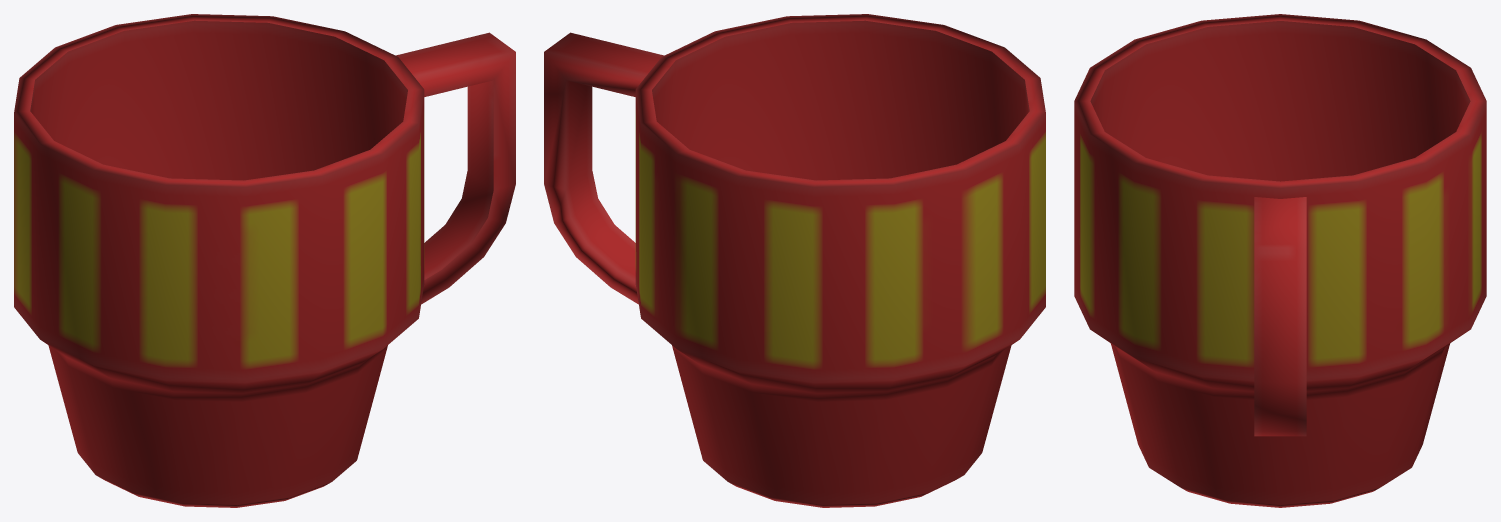
The model's file is pi_cup02_01.gltf.
3 views of the same model, side by side, from view 1: azimuth 30°, elevation 25°; view 2: azimuth 150°, elevation 25°; view 3: azimuth 270°, elevation 25° (orthographic).
Parts seen in each view (by area): view 1: pi_cup02_01_mesh_shape:pi_cup02_01_body01; view 2: pi_cup02_01_mesh_shape:pi_cup02_01_body01; view 3: pi_cup02_01_mesh_shape:pi_cup02_01_body01.
Part boxes in pixels (box(x1,y1,x2,y2)): pi_cup02_01_mesh_shape:pi_cup02_01_body01: box(14, 14, 515, 507); pi_cup02_01_mesh_shape:pi_cup02_01_body01: box(544, 14, 1045, 507); pi_cup02_01_mesh_shape:pi_cup02_01_body01: box(1074, 14, 1486, 507).
Size of what is drawn, in the model's own units: 0.1646 by 0.1197 by 0.1275.
Materials: 1 (1 with a texture image).
